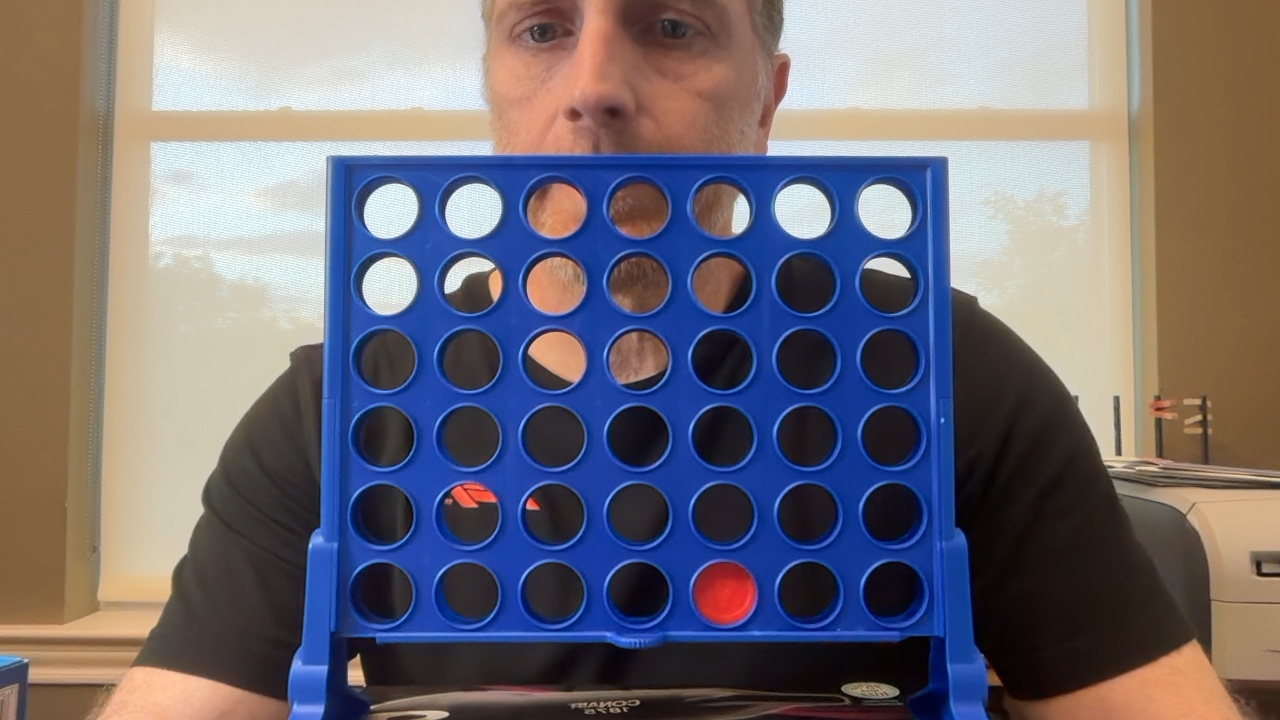red piece: (692, 562, 757, 625)
